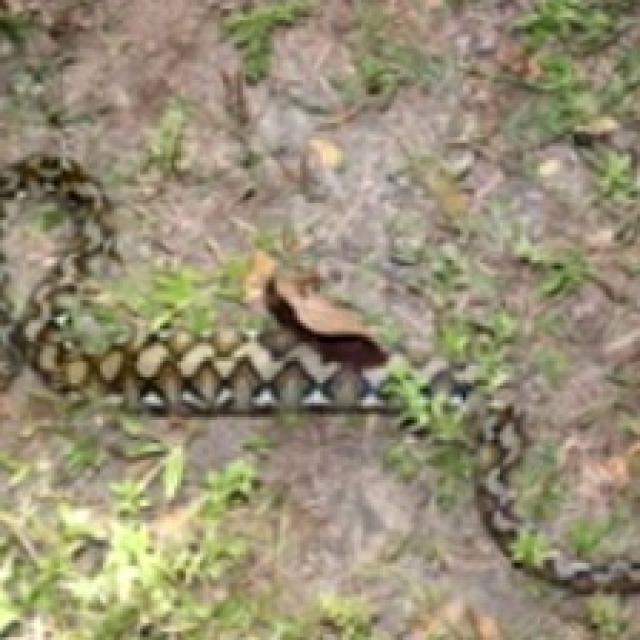reticulated python: (0, 155, 640, 589)
